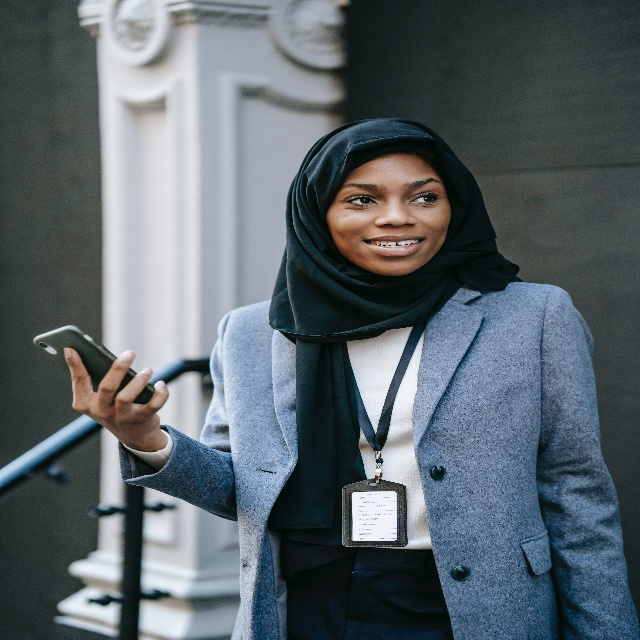Sin_guantes: (63, 346, 169, 447)
